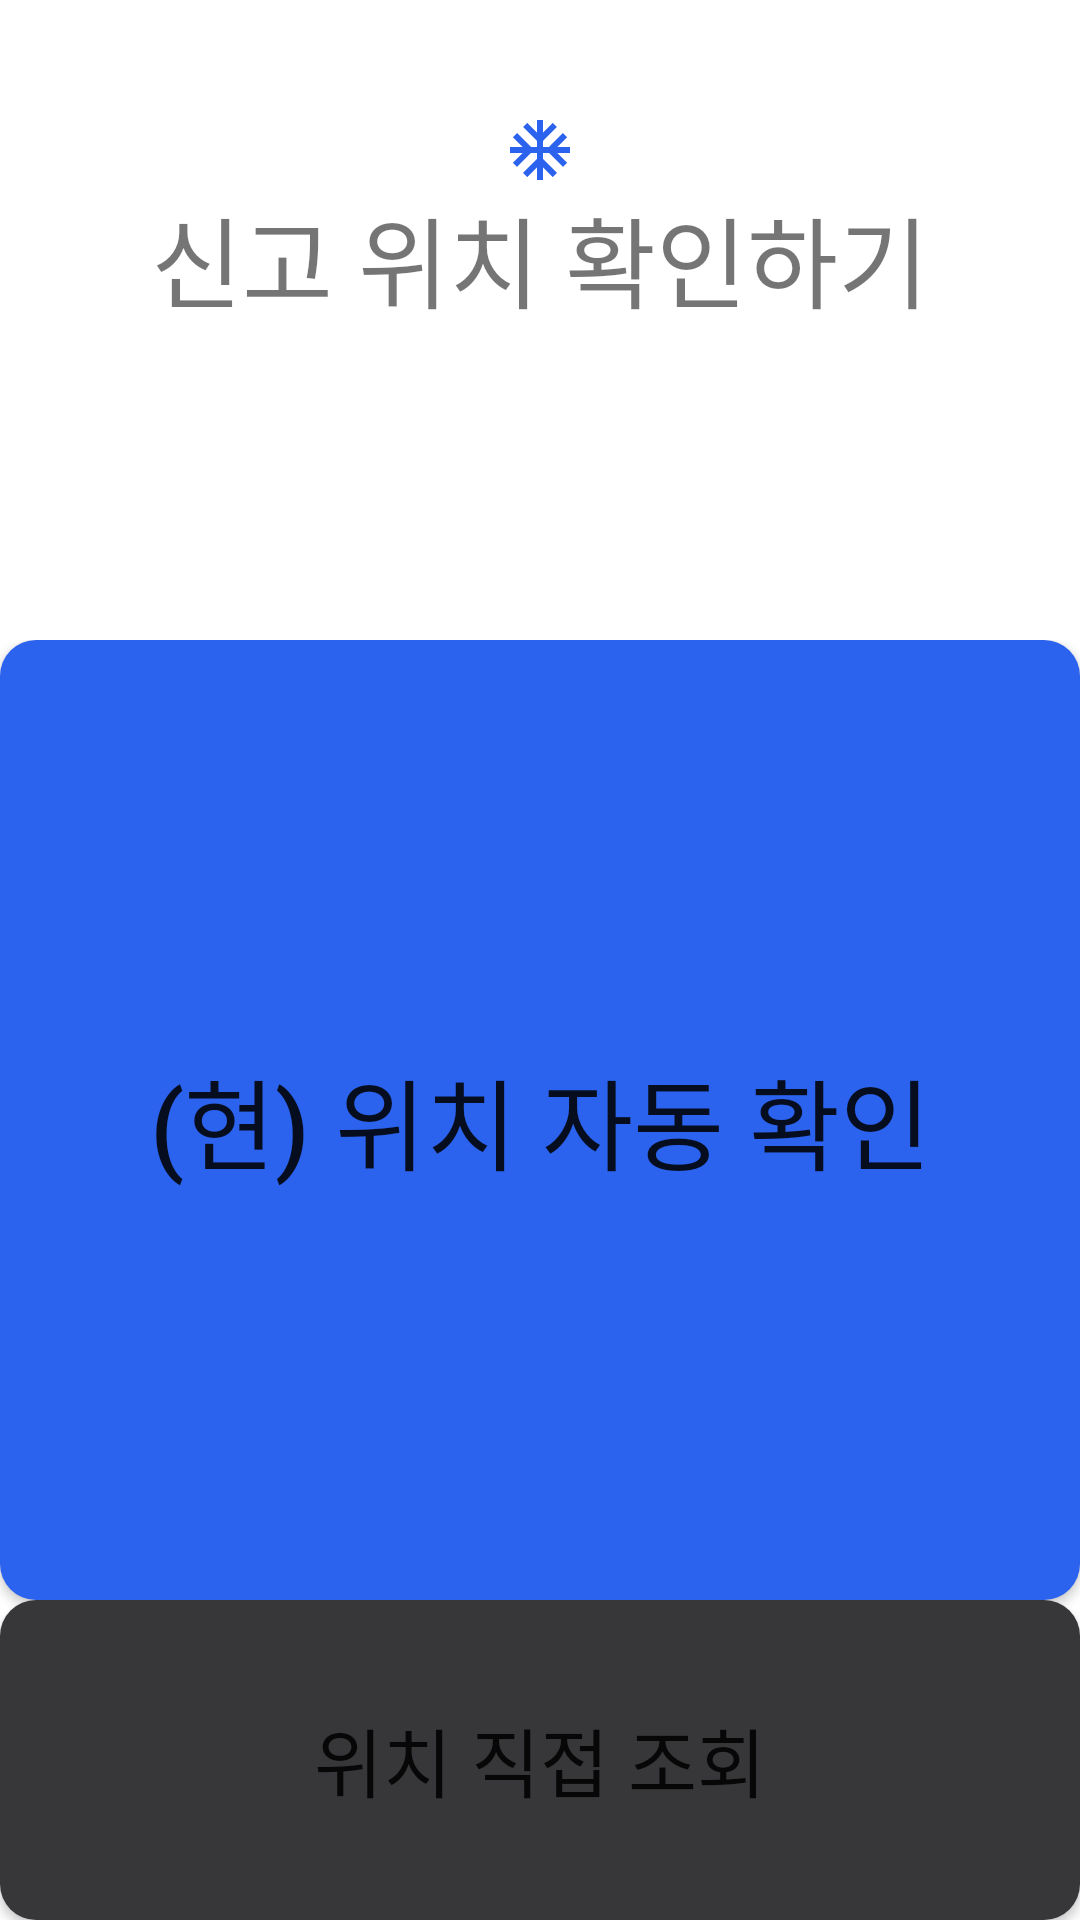

Where icons sit on this 1080 x 1920 app screen, as (x1, y1, x2, y2):
ac unit: (510, 120, 570, 180)
